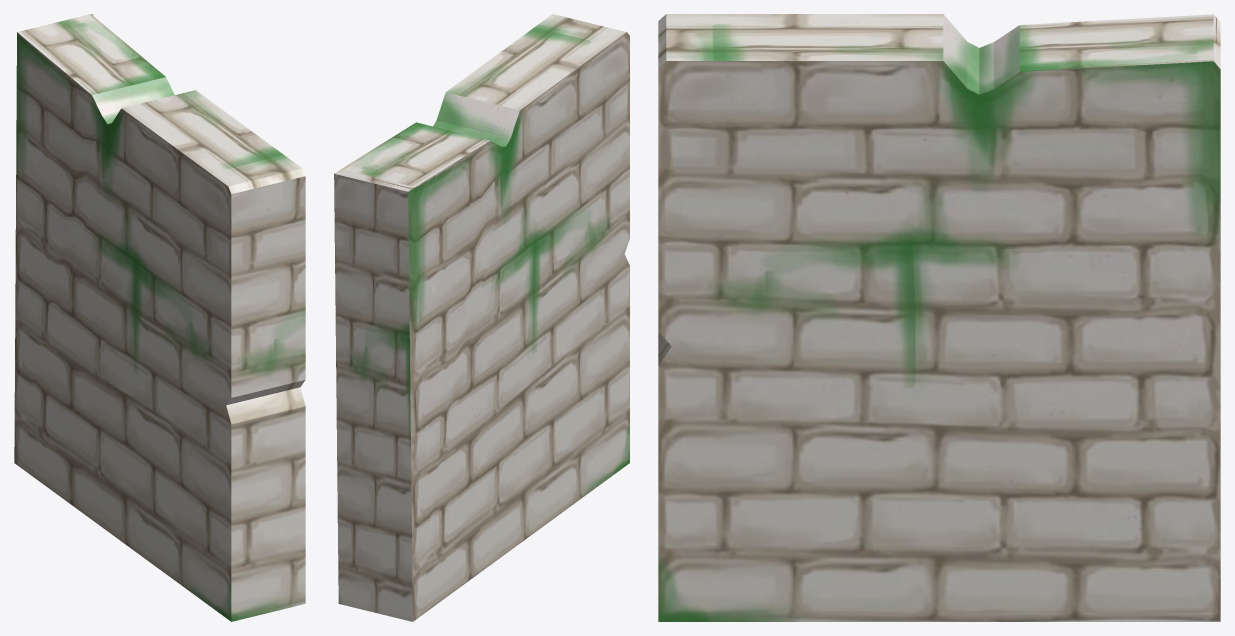
File: 殘壁fbx.fbx
The picture shows the model from 3 angles, left to right: view 1: azimuth 30°, elevation 25°; view 2: azimuth 150°, elevation 25°; view 3: azimuth 270°, elevation 25°; orthographic projection. The views are drawn at different scales.
Visible parts, largest first — view 1: 立方體.004; view 2: 立方體.004; view 3: 立方體.004.
Boxes of the visible parts, box(x1,y1,x2,y2) form: 立方體.004: box(14, 14, 305, 621); 立方體.004: box(334, 14, 629, 621); 立方體.004: box(658, 14, 1220, 621).
Bounding box in the file's own units: 127 × 666 × 605.
1 material, 1 textured.
